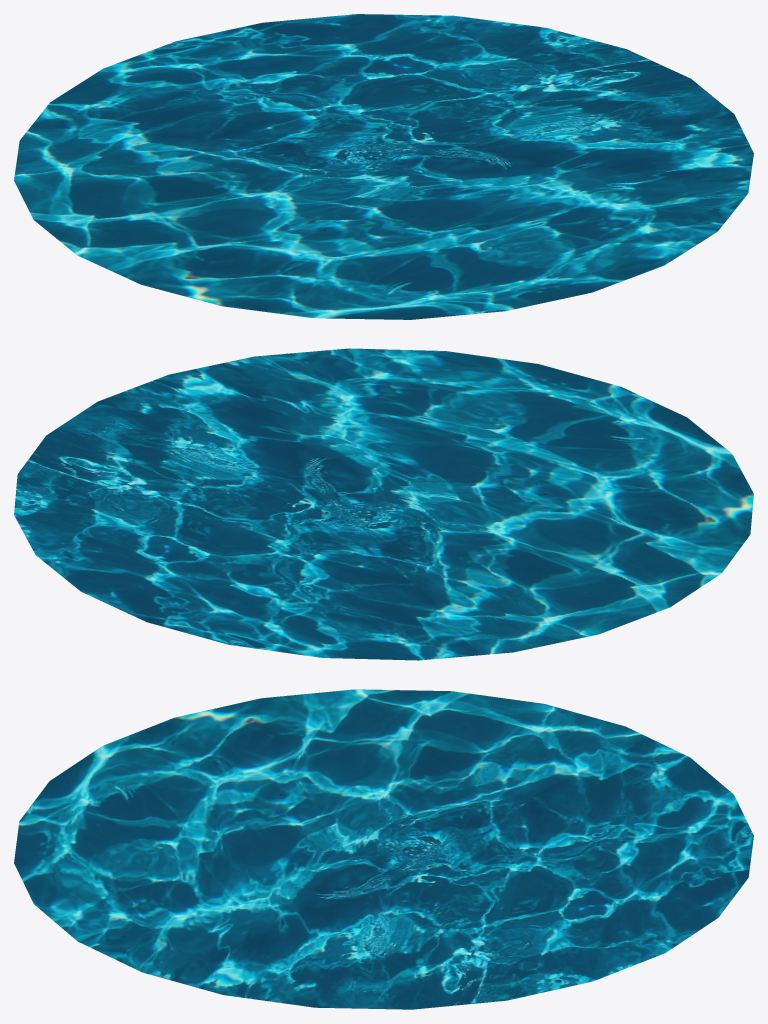
Rendered from AguaCazuela_Picapiedras.obj.
3 renders of one model, top to bottom at view 1: azimuth 30°, elevation 25°; view 2: azimuth 150°, elevation 25°; view 3: azimuth 270°, elevation 25°, orthographic. The views are drawn at different scales.
Parts seen in each view (by area): view 1: AguaCazuela_Picapiedras:pDisc1; view 2: AguaCazuela_Picapiedras:pDisc1; view 3: AguaCazuela_Picapiedras:pDisc1.
Part boxes in pixels (x1,y1,x2,y2): AguaCazuela_Picapiedras:pDisc1: (14,14,753,319); AguaCazuela_Picapiedras:pDisc1: (14,348,753,660); AguaCazuela_Picapiedras:pDisc1: (14,689,753,1009).
Size of the model in its own units: 24.49 by 0 by 23.9.
1 material, 1 textured.
